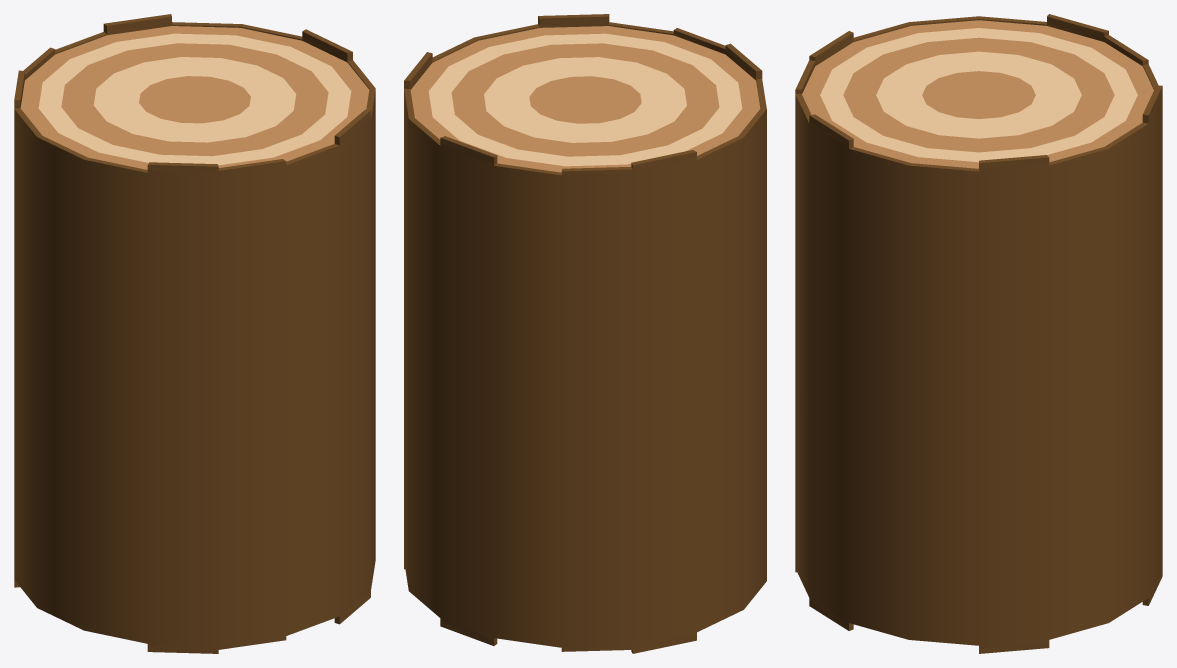
File: Log_whole.fbx
3 renders of one model, left to right at view 1: azimuth 30°, elevation 25°; view 2: azimuth 150°, elevation 25°; view 3: azimuth 270°, elevation 25°, orthographic.
Parts seen in each view (by area): view 1: Log_whole; view 2: Log_whole; view 3: Log_whole.
Boxes of the visible parts, left/top/right/bottom form: Log_whole: left=14, top=14, right=375, bottom=653; Log_whole: left=404, top=14, right=766, bottom=653; Log_whole: left=795, top=14, right=1162, bottom=653.
Bounding box in the file's own units: 570 × 840 × 570.
